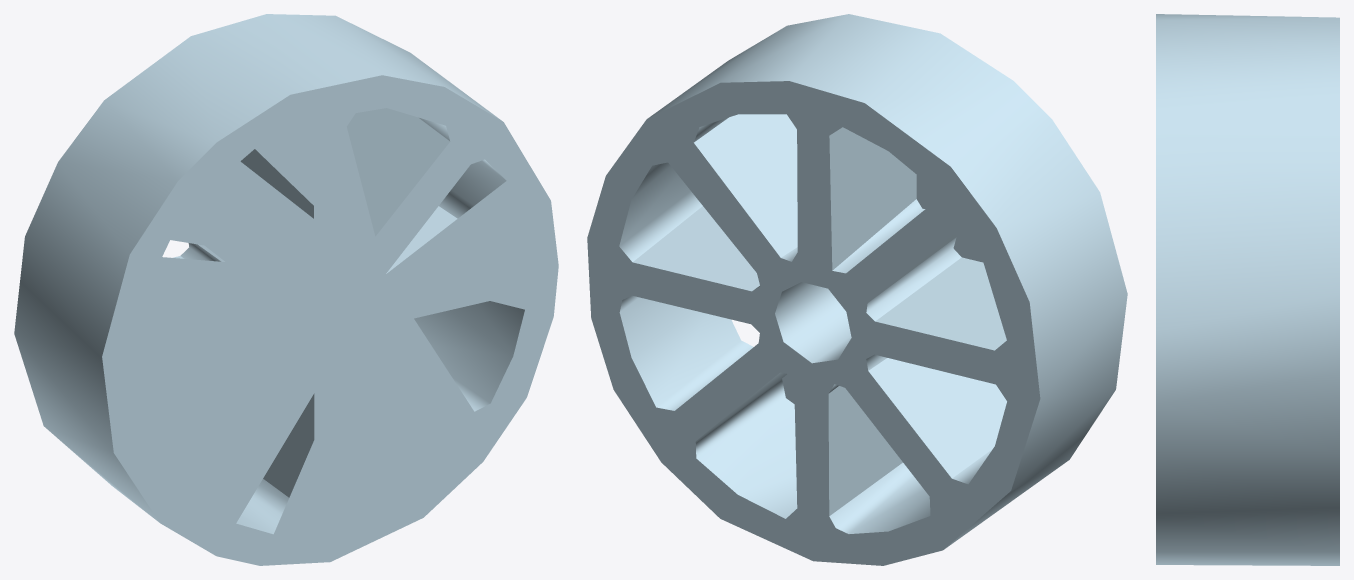
The model's file is ThreeInSquish.fbx.
3 views of the same model, side by side, from view 1: azimuth 30°, elevation 25°; view 2: azimuth 150°, elevation 25°; view 3: azimuth 270°, elevation 25° (orthographic). The views are drawn at different scales.
Parts seen in each view (by area): view 1: Part 1; view 2: Part 1; view 3: Part 1.
Boxes of the visible parts, x1=… form: Part 1: x1=14, y1=14, x2=558, y2=565; Part 1: x1=587, y1=14, x2=1127, y2=565; Part 1: x1=1156, y1=14, x2=1339, y2=565.
Bounding box in the file's own units: 7.62 × 7.63 × 2.54.
